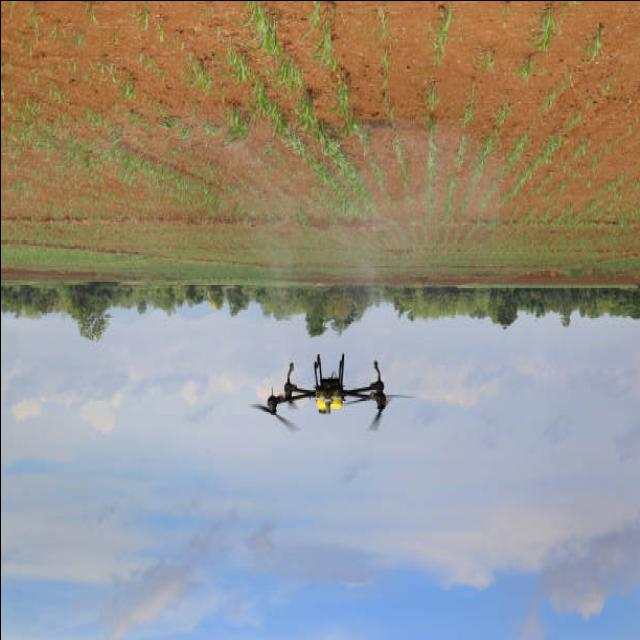drone: (250, 353, 415, 433)
